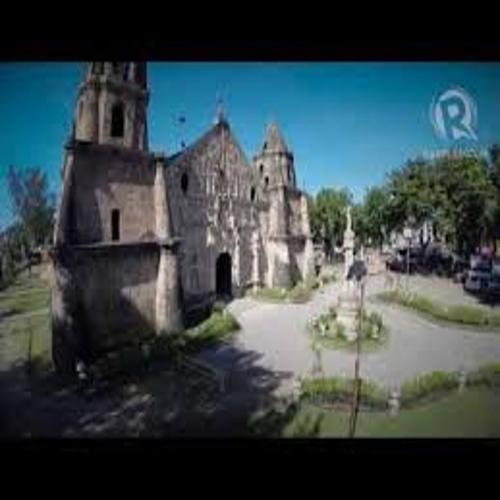Miagao Church: (45, 61, 316, 339)
